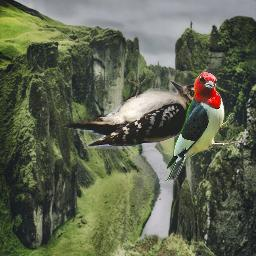Woodpecker: (61, 78, 220, 153), (163, 71, 235, 181)
